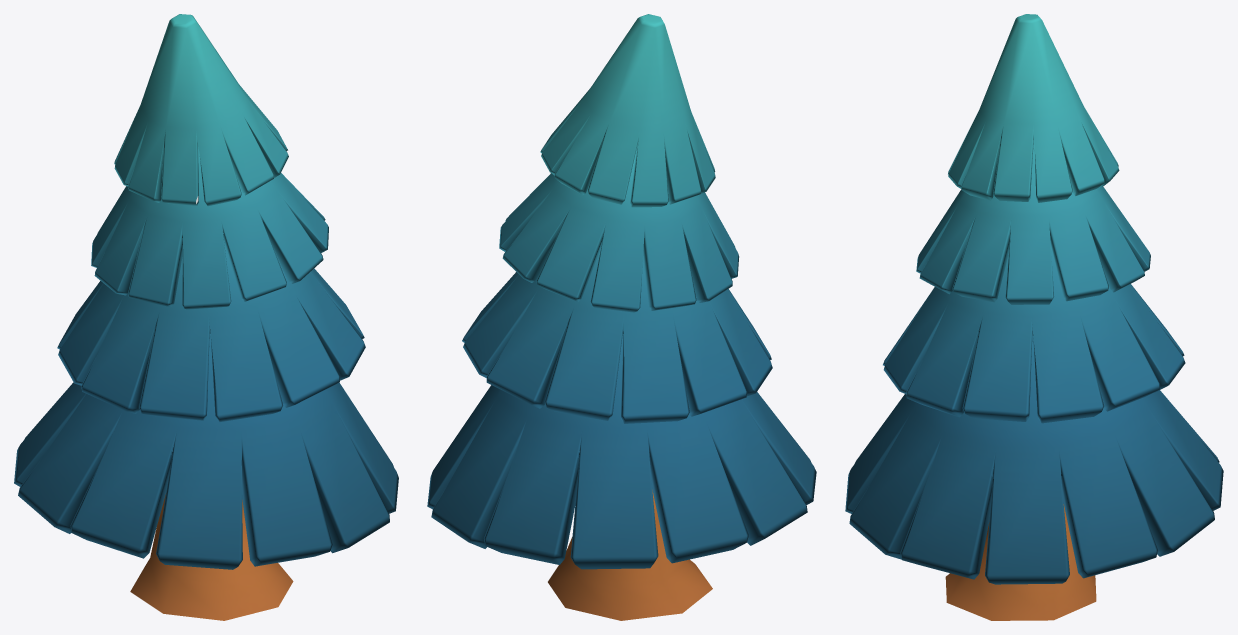
The model's file is Tree_07.fbx.
The picture shows the model from 3 angles, left to right: view 1: azimuth 30°, elevation 25°; view 2: azimuth 150°, elevation 25°; view 3: azimuth 270°, elevation 25°; orthographic projection. The views are drawn at different scales.
Parts seen in each view (by area): view 1: Tree_07.067, Tree_07.005, Tree_07.058, Tree_07.020, Tree_07.032, Tree_07.003, Tree_07.040, Tree_07.060, Tree_07.053, Tree_07.030, Tree_07.070, Tree_07.043 (+17 smaller); view 2: Tree_07.020, Tree_07.058, Tree_07.032, Tree_07.072, Tree_07.039, Tree_07.051, Tree_07.005, Tree_07.060, Tree_07.059, Tree_07.003, Tree_07.009, Tree_07.078 (+10 smaller); view 3: Tree_07.053, Tree_07.072, Tree_07.005, Tree_07.048, Tree_07.039, Tree_07.009, Tree_07.056, Tree_07.054, Tree_07.020, Tree_07.010, Tree_07.028, Tree_07.064 (+18 smaller).
Part boxes in pixels (<box>): Tree_07.067: <box>156,376,318,565</box>; Tree_07.005: <box>114,55,288,206</box>; Tree_07.058: <box>15,383,136,528</box>; Tree_07.020: <box>95,147,291,293</box>; Tree_07.032: <box>57,281,149,413</box>; Tree_07.003: <box>147,14,227,131</box>; Tree_07.040: <box>142,282,243,407</box>; Tree_07.060: <box>130,493,255,619</box>; Tree_07.053: <box>208,334,364,488</box>; Tree_07.030: <box>210,318,282,421</box>; Tree_07.070: <box>70,476,167,558</box>; Tree_07.043: <box>234,270,350,365</box>; Tree_07.020: <box>546,149,731,312</box>; Tree_07.058: <box>626,398,807,544</box>; Tree_07.032: <box>621,294,772,423</box>; Tree_07.072: <box>427,405,558,560</box>; Tree_07.039: <box>471,273,600,403</box>; Tree_07.051: <box>574,436,747,549</box>; Tree_07.005: <box>540,60,715,207</box>; Tree_07.060: <box>555,490,712,620</box>; Tree_07.059: <box>484,344,777,504</box>; Tree_07.003: <box>609,14,692,120</box>; Tree_07.009: <box>499,173,553,282</box>; Tree_07.078: <box>570,512,658,569</box>; Tree_07.053: <box>882,401,1092,513</box>; Tree_07.072: <box>1063,425,1222,578</box>; Tree_07.005: <box>964,73,1111,202</box>; Tree_07.048: <box>933,265,1067,420</box>; Tree_07.039: <box>1006,250,1184,404</box>; Tree_07.009: <box>992,221,1144,304</box>; Tree_07.056: <box>985,506,1067,584</box>; Tree_07.054: <box>900,498,990,579</box>; Tree_07.020: <box>960,141,1150,258</box>; Tree_07.010: <box>919,220,991,297</box>; Tree_07.028: <box>1035,360,1103,423</box>; Tree_07.064: <box>957,568,1058,620</box>.
Size of the model in its own units: 3.29 by 5.36 by 3.27.
